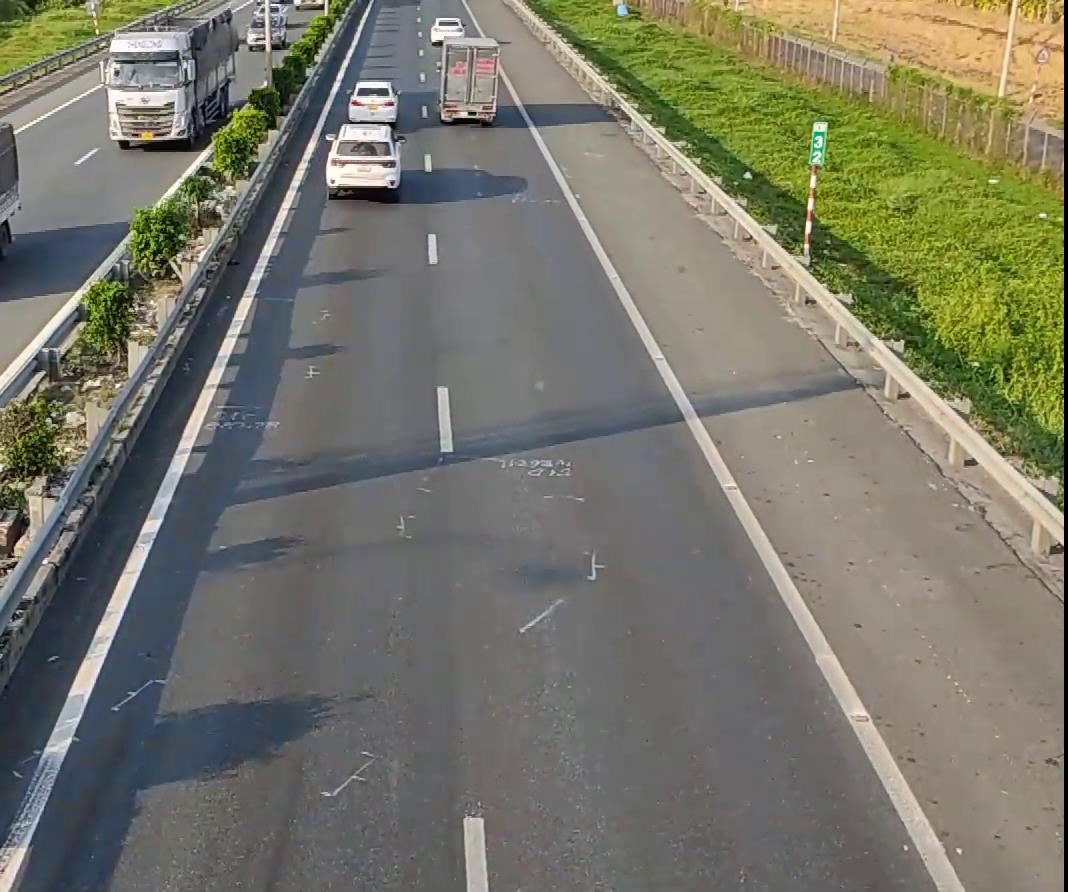car: (320, 121, 406, 198)
truck: (102, 10, 236, 147), (434, 28, 499, 123), (0, 116, 23, 290)
